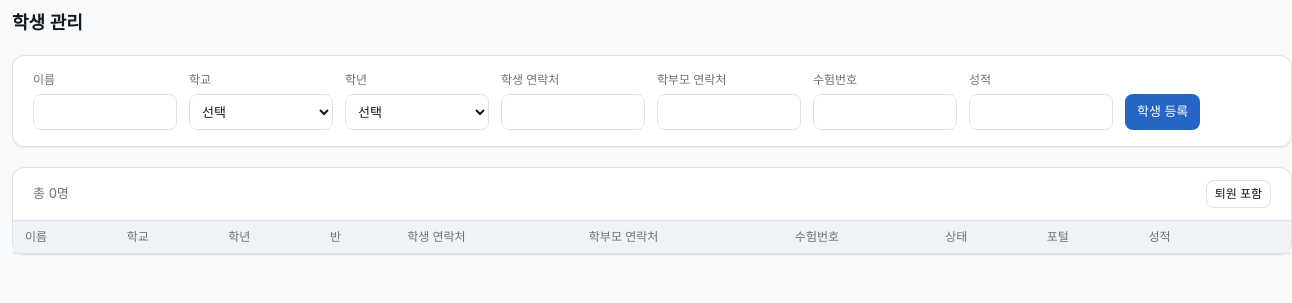
Test: StudentsPage › shows the server message when the omr number is out of range
Expected: the button "학생 등록" is shown, left=1125, top=94, right=1200, bottom=130
Step 1. Type "홍길동" into the field labelled "이름" → (105, 112), box left=33, top=94, right=177, bottom=130
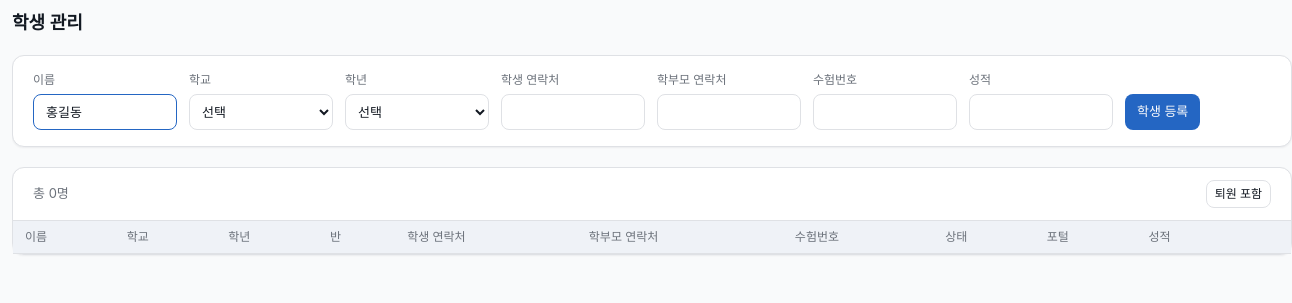
Step 2. Type "18600001" into the field labelled "수험번호" → (885, 112), box left=813, top=94, right=957, bottom=130
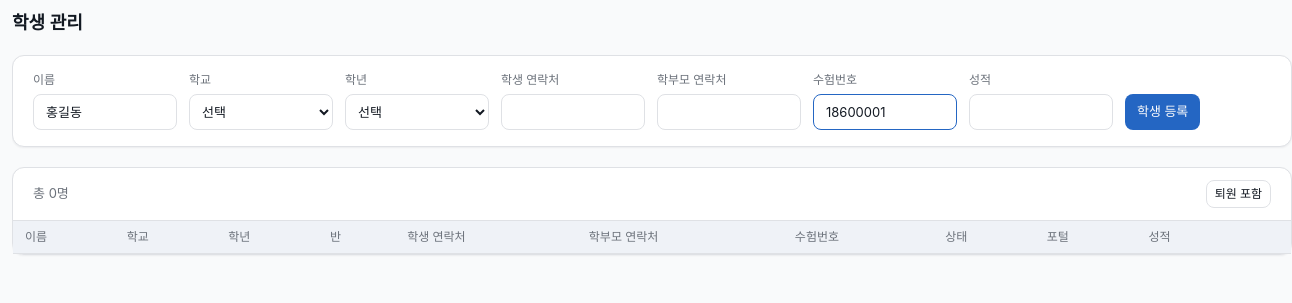
Step 3. Click the button "학생 등록" → click(1163, 112), box left=1125, top=94, right=1200, bottom=130
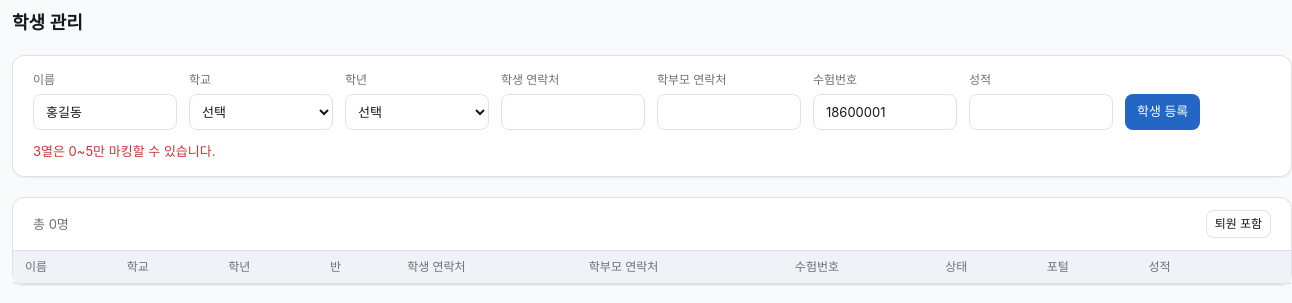
Expected: the message reads "3열은 0~5만 마킹할 수 있습니다.", left=33, top=142, right=216, bottom=158
